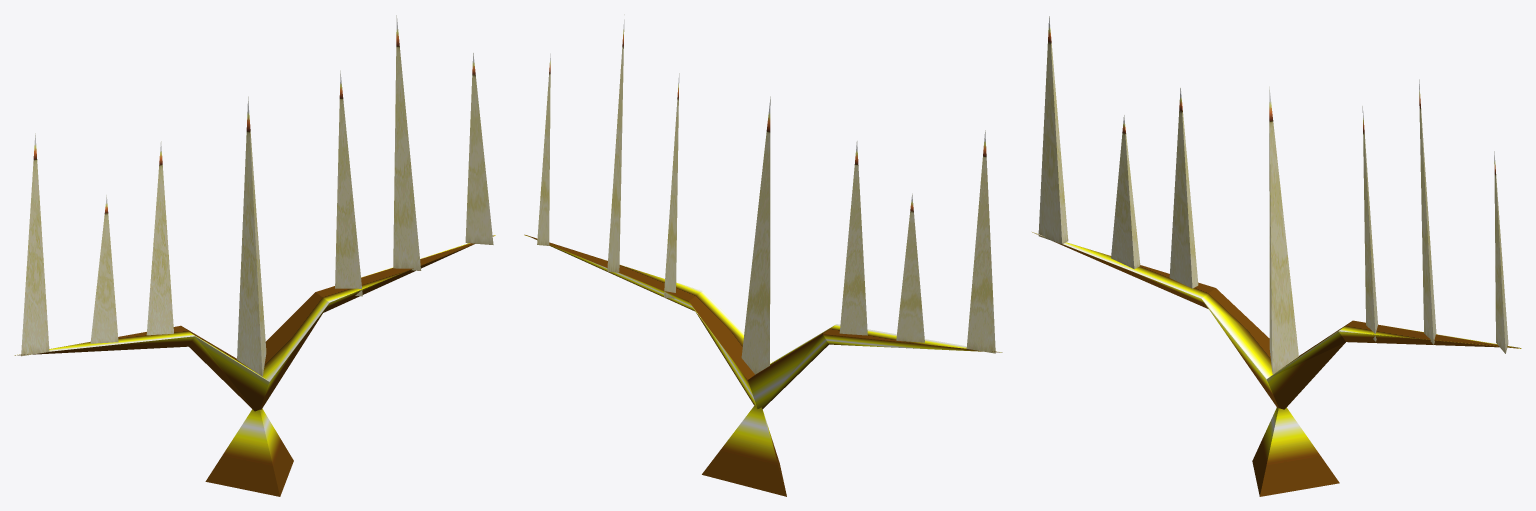
File: Kerzenständer_2285.glb
3 renders of one model, left to right at view 1: azimuth 30°, elevation 25°; view 2: azimuth 150°, elevation 25°; view 3: azimuth 330°, elevation 25°, orthographic. The views are drawn at different scales.
Parts seen in each view (by area): view 1: kerzenlaeuchter_2_pCylinderShape13, kerzenlaeuchter_2_pConeShape22, kerzenlaeuchter_2_pConeShape23, kerzenlaeuchter_2_pConeShape28, kerzenlaeuchter_2_pConeShape26, kerzenlaeuchter_2_pConeShape27, kerzenlaeuchter_2_pConeShape29, kerzenlaeuchter_2_pConeShape24, kerzenlaeuchter_2_pConeShape25; view 2: kerzenlaeuchter_2_pCylinderShape13, kerzenlaeuchter_2_pConeShape23, kerzenlaeuchter_2_pConeShape22, kerzenlaeuchter_2_pConeShape26, kerzenlaeuchter_2_pConeShape24, kerzenlaeuchter_2_pConeShape25, kerzenlaeuchter_2_pConeShape28, kerzenlaeuchter_2_pConeShape27, kerzenlaeuchter_2_pConeShape29; view 3: kerzenlaeuchter_2_pCylinderShape13, kerzenlaeuchter_2_pConeShape22, kerzenlaeuchter_2_pConeShape23, kerzenlaeuchter_2_pConeShape26, kerzenlaeuchter_2_pConeShape24, kerzenlaeuchter_2_pConeShape25, kerzenlaeuchter_2_pConeShape28, kerzenlaeuchter_2_pConeShape27, kerzenlaeuchter_2_pConeShape29.
Part boxes in pixels (x1,y1,x2,y2): kerzenlaeuchter_2_pCylinderShape13: [14, 235, 495, 411]; kerzenlaeuchter_2_pConeShape22: [205, 408, 293, 496]; kerzenlaeuchter_2_pConeShape23: [237, 96, 266, 376]; kerzenlaeuchter_2_pConeShape28: [393, 15, 421, 270]; kerzenlaeuchter_2_pConeShape26: [21, 133, 49, 356]; kerzenlaeuchter_2_pConeShape27: [335, 70, 362, 296]; kerzenlaeuchter_2_pConeShape29: [465, 53, 493, 244]; kerzenlaeuchter_2_pConeShape24: [146, 141, 173, 335]; kerzenlaeuchter_2_pConeShape25: [90, 195, 118, 343]; kerzenlaeuchter_2_pCylinderShape13: [524, 234, 1002, 409]; kerzenlaeuchter_2_pConeShape23: [741, 96, 770, 374]; kerzenlaeuchter_2_pConeShape22: [702, 405, 786, 496]; kerzenlaeuchter_2_pConeShape26: [966, 130, 995, 353]; kerzenlaeuchter_2_pConeShape24: [839, 141, 867, 335]; kerzenlaeuchter_2_pConeShape25: [896, 193, 924, 342]; kerzenlaeuchter_2_pConeShape28: [607, 14, 624, 272]; kerzenlaeuchter_2_pConeShape27: [664, 73, 679, 298]; kerzenlaeuchter_2_pConeShape29: [537, 53, 550, 245]; kerzenlaeuchter_2_pCylinderShape13: [1032, 232, 1521, 409]; kerzenlaeuchter_2_pConeShape22: [1252, 407, 1339, 496]; kerzenlaeuchter_2_pConeShape23: [1269, 86, 1298, 373]; kerzenlaeuchter_2_pConeShape26: [1038, 16, 1068, 244]; kerzenlaeuchter_2_pConeShape24: [1169, 87, 1198, 288]; kerzenlaeuchter_2_pConeShape25: [1111, 115, 1140, 269]; kerzenlaeuchter_2_pConeShape28: [1419, 79, 1436, 344]; kerzenlaeuchter_2_pConeShape27: [1362, 106, 1377, 341]; kerzenlaeuchter_2_pConeShape29: [1494, 151, 1508, 353].
Bounding box in the file's own units: 0.2373 × 0.2047 × 0.0291.
9 materials, 9 textured.
